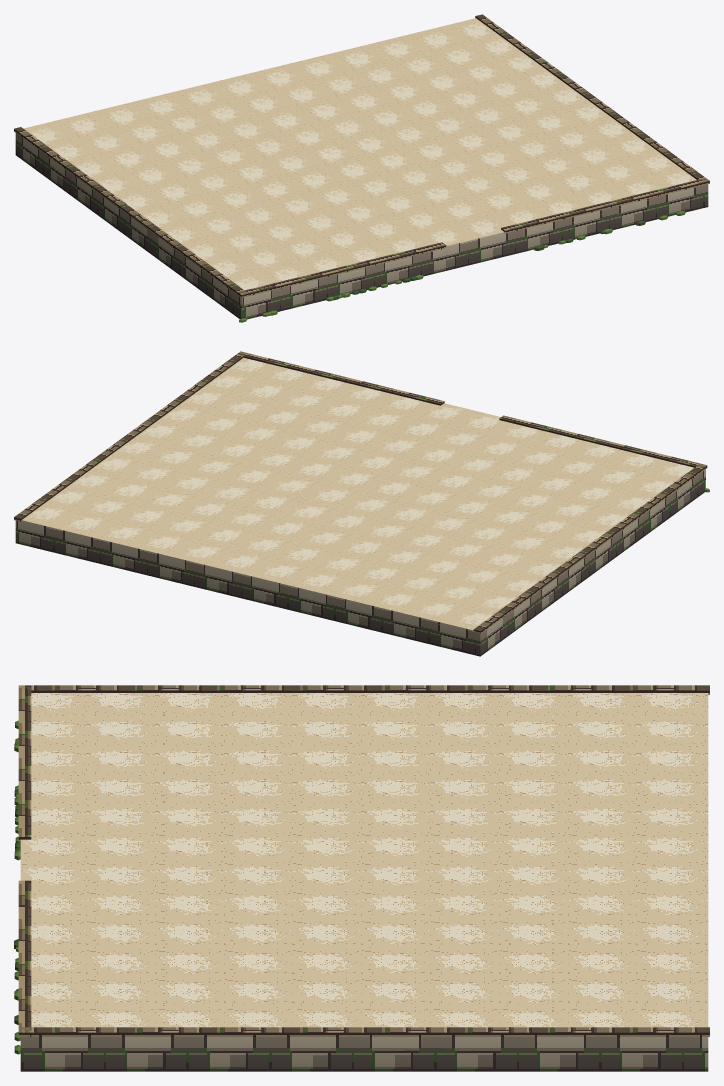
The model's file is scene_plat_b2.glb.
3 renders of one model, top to bottom at view 1: azimuth 30°, elevation 25°; view 2: azimuth 150°, elevation 25°; view 3: azimuth 270°, elevation 25°, orthographic. The views are drawn at different scales.
Parts seen in each view (by area): view 1: scene_plat_b2; view 2: scene_plat_b2; view 3: scene_plat_b2.
Part boxes in pixels (x1,y1,x2,y2): scene_plat_b2: (14,14,709,322); scene_plat_b2: (14,351,709,656); scene_plat_b2: (14,685,709,1071).
Size of the model in its own units: 24.03 by 1.37 by 20.24.
3 materials, 2 textured.
